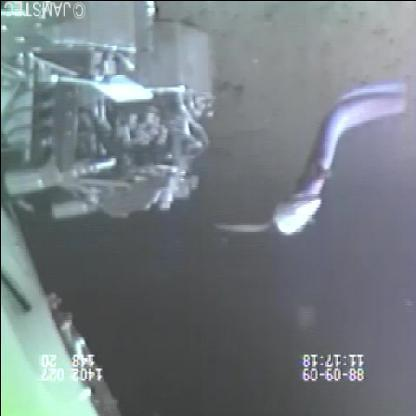Bio: (209, 68, 411, 239)
Rov: (1, 0, 223, 228)
